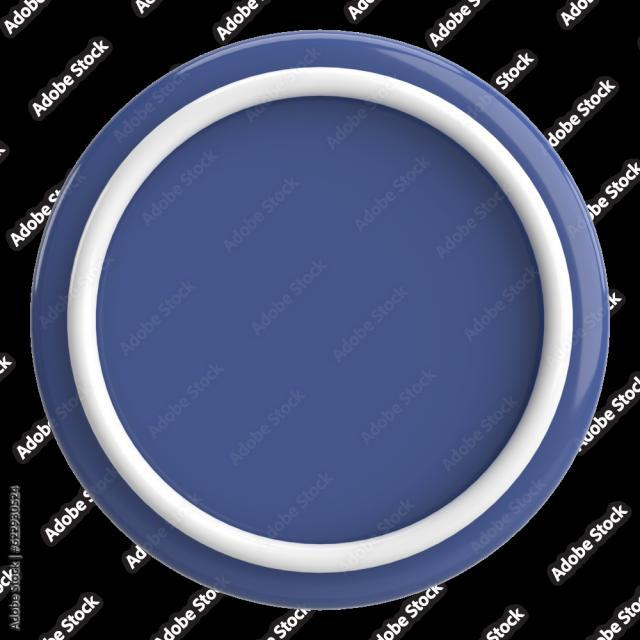Circle: (24, 24, 615, 616)
